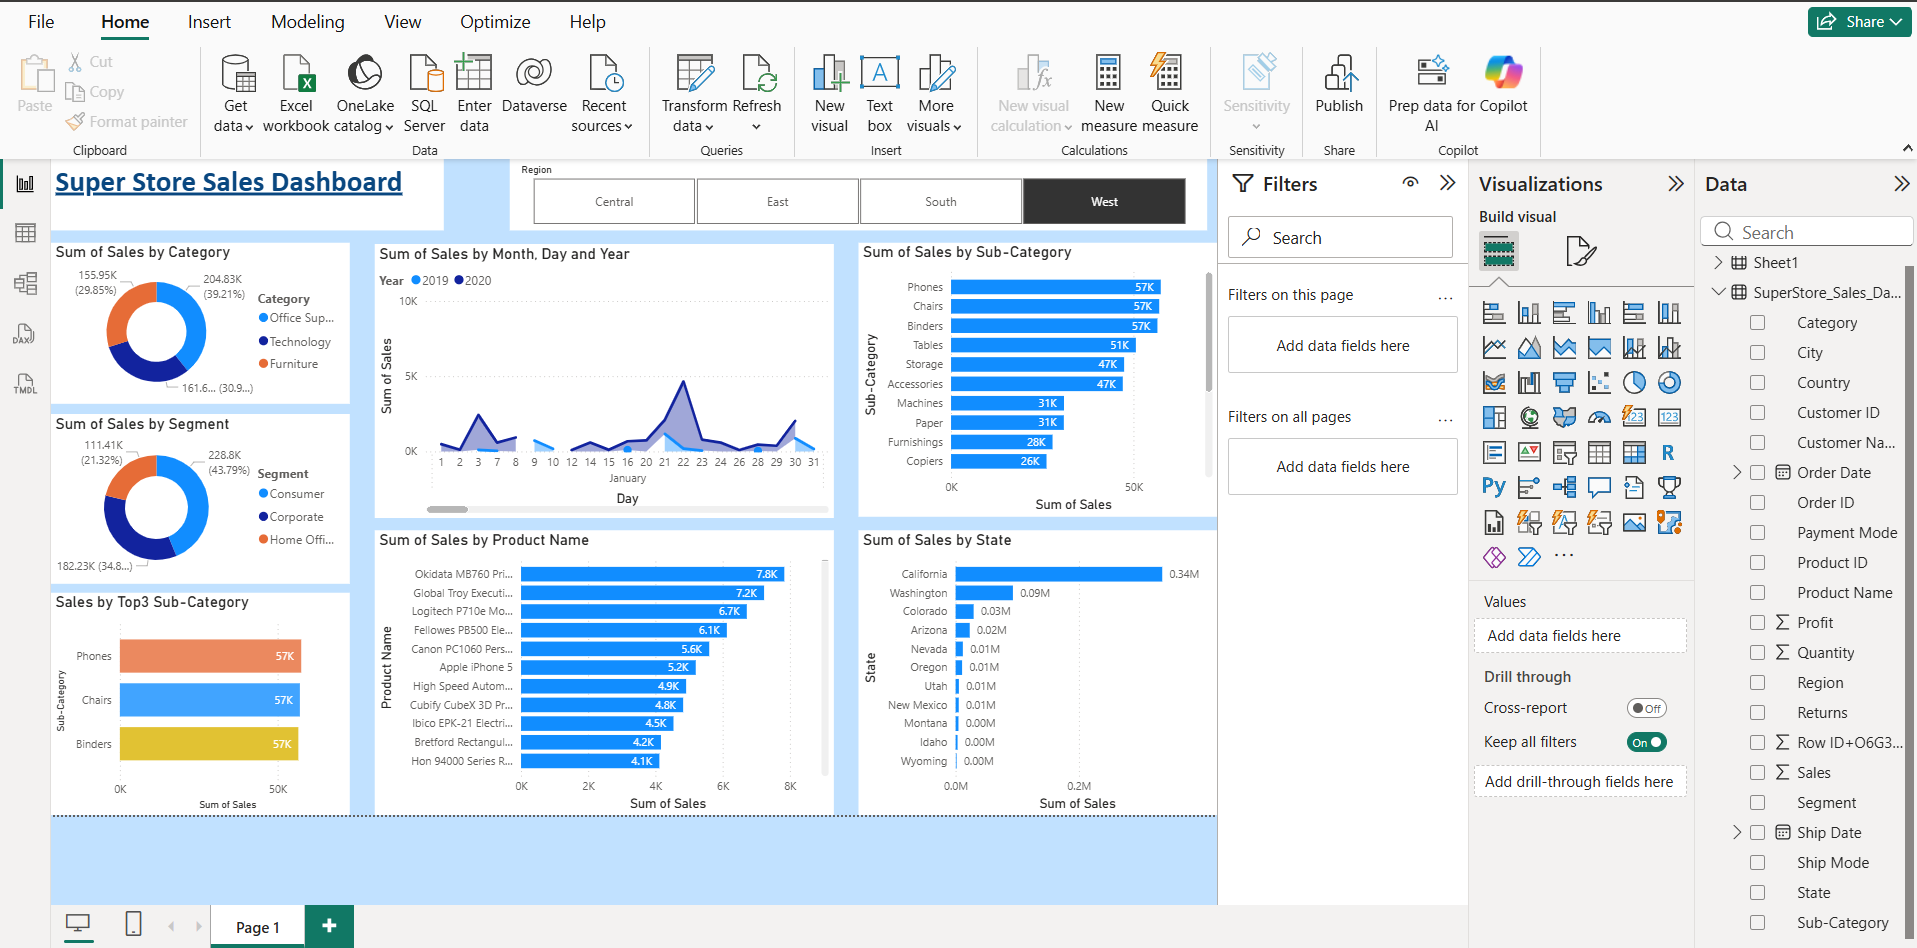

The page's visual inventory and layout, read from the dashboard file:
{"tool":"powerbi","page":{"name":"Page 1","canvas":[1280,720],"ordinal":0},"visuals":[{"type":"barChart","fields":{"Y":["Sum(SuperStore_Sales_Dataset.Sales)"],"Category":["SuperStore_Sales_Dataset.Sub-Category"]},"box":[886.5,208.6,393.8,248.4],"z":0},{"type":"barChart","title":"Sales by Top3 Sub-Category","fields":{"Y":["Sum(SuperStore_Sales_Dataset.Sales)"],"Category":["SuperStore_Sales_Dataset.Sub-Category"]},"box":[0,497.5,342,223.1],"z":1000},{"type":"stackedAreaChart","fields":{"Y":["Sum(SuperStore_Sales_Dataset.Sales)"],"Series":["SuperStore_Sales_Dataset.Order Date.Variation.Date Hierarchy.Year"],"Category":["SuperStore_Sales_Dataset.Order Date.Variation.Date Hierarchy.Month","SuperStore_Sales_Dataset.Order Date.Variation.Date Hierarchy.Day"]},"box":[355.4,208.6,503.6,248.4],"z":2000},{"type":"donutChart","fields":{"Category":["SuperStore_Sales_Dataset.Segment"],"Y":["Sum(SuperStore_Sales_Dataset.Sales)"]},"box":[0,297.4,342,190.6],"z":3000},{"type":"slicer","fields":{"Values":["SuperStore_Sales_Dataset.Region"]},"box":[503.6,0,765.7,78.2],"z":4000},{"type":"textbox","box":[0,0,430.9,78.2],"z":5000},{"type":"barChart","fields":{"Y":["Sum(SuperStore_Sales_Dataset.Sales)"],"Category":["SuperStore_Sales_Dataset.State"]},"box":[872.7,476.2,407.5,244.3],"z":6000},{"type":"donutChart","fields":{"Y":["Sum(SuperStore_Sales_Dataset.Sales)"],"Category":["SuperStore_Sales_Dataset.Category"]},"box":[0,91.9,342,196],"z":7000},{"type":"barChart","fields":{"Y":["Sum(SuperStore_Sales_Dataset.Sales)"],"Category":["SuperStore_Sales_Dataset.Product Name"]},"box":[355.4,476.2,503.6,244.3],"z":8000},{"type":"cardVisual","fields":{"Data":["Sheet1.Total Sales"]},"box":[355.6,91.9,179.8,98.7],"z":9000},{"type":"cardVisual","fields":{"Data":["Sheet1.Total Profit"]},"box":[588.1,91.9,187.9,98.7],"z":10000},{"type":"cardVisual","fields":{"Data":["Sheet1.Profit Margin %"]},"box":[826,91.9,190.6,98.7],"z":11000},{"type":"cardVisual","fields":{"Data":["Sum(Sheet1.Quantity)"]},"box":[1066.7,91.9,190.6,98.7],"z":11001}]}

Visuals, with their boxes on the page's 1280x720 design canvas (x1, y1, x2, y2). These are canvas units, not pixel positions in the 1917x948 screenshot, which may show the page scaled, cropped or inside an application window:
barChart - Sum(SuperStore_Sales_Dataset.Sales) x SuperStore_Sales_Dataset.Sub-Category: [left=886, top=209, right=1280, bottom=457]
"Sales by Top3 Sub-Category" barChart: [left=0, top=498, right=342, bottom=721]
stackedAreaChart - Sum(SuperStore_Sales_Dataset.Sales) x SuperStore_Sales_Dataset.Order Date.Variation.Date Hierarchy.Year: [left=355, top=209, right=859, bottom=457]
donutChart - SuperStore_Sales_Dataset.Segment x Sum(SuperStore_Sales_Dataset.Sales): [left=0, top=297, right=342, bottom=488]
slicer - SuperStore_Sales_Dataset.Region: [left=504, top=0, right=1269, bottom=78]
textbox: [left=0, top=0, right=431, bottom=78]
barChart - Sum(SuperStore_Sales_Dataset.Sales) x SuperStore_Sales_Dataset.State: [left=873, top=476, right=1280, bottom=720]
donutChart - Sum(SuperStore_Sales_Dataset.Sales) x SuperStore_Sales_Dataset.Category: [left=0, top=92, right=342, bottom=288]
barChart - Sum(SuperStore_Sales_Dataset.Sales) x SuperStore_Sales_Dataset.Product Name: [left=355, top=476, right=859, bottom=720]
cardVisual - Sheet1.Total Sales: [left=356, top=92, right=535, bottom=191]
cardVisual - Sheet1.Total Profit: [left=588, top=92, right=776, bottom=191]
cardVisual - Sheet1.Profit Margin %: [left=826, top=92, right=1017, bottom=191]
cardVisual - Sum(Sheet1.Quantity): [left=1067, top=92, right=1257, bottom=191]
